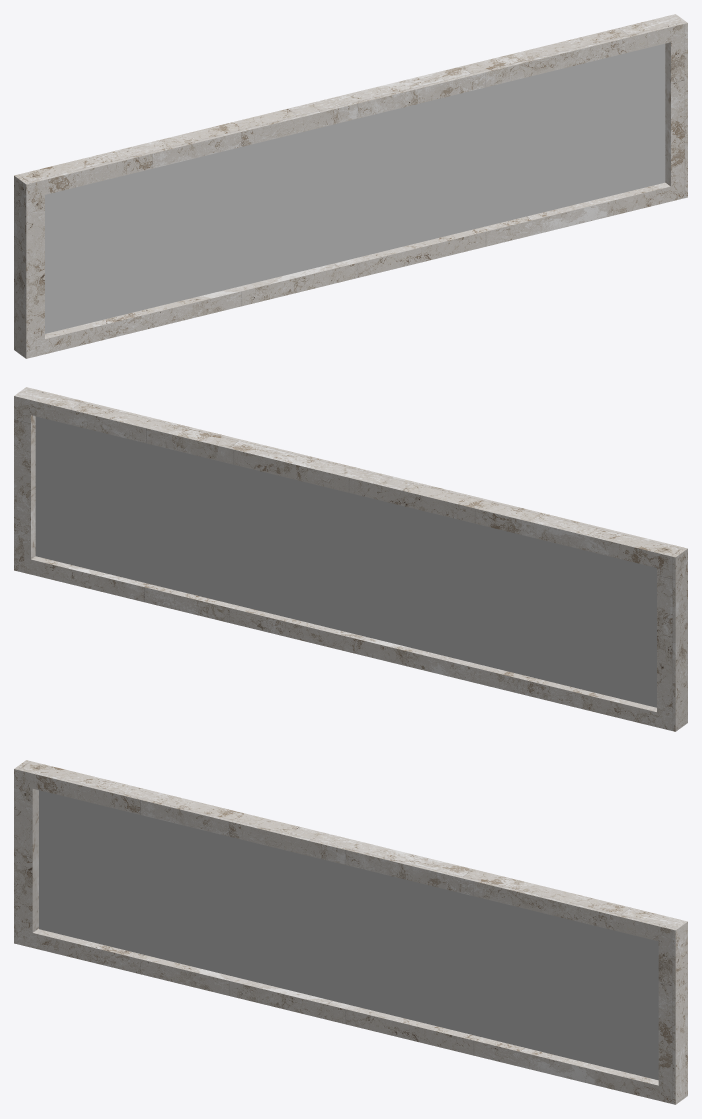
The model's file is SM_BuildGlass2.fbx.
3 renders of one model, top to bottom at view 1: azimuth 30°, elevation 25°; view 2: azimuth 150°, elevation 25°; view 3: azimuth 330°, elevation 25°, orthographic.
Parts seen in each view (by area): view 1: SM_BuildGlass2; view 2: SM_BuildGlass2; view 3: SM_BuildGlass2.
Boxes of the visible parts, left/top/right/bottom form: SM_BuildGlass2: left=14, top=14, right=687, bottom=358; SM_BuildGlass2: left=14, top=387, right=687, bottom=731; SM_BuildGlass2: left=14, top=760, right=687, bottom=1104.
Size of the model in its own units: 187 by 6 by 47.12.
2 materials, 1 textured.
